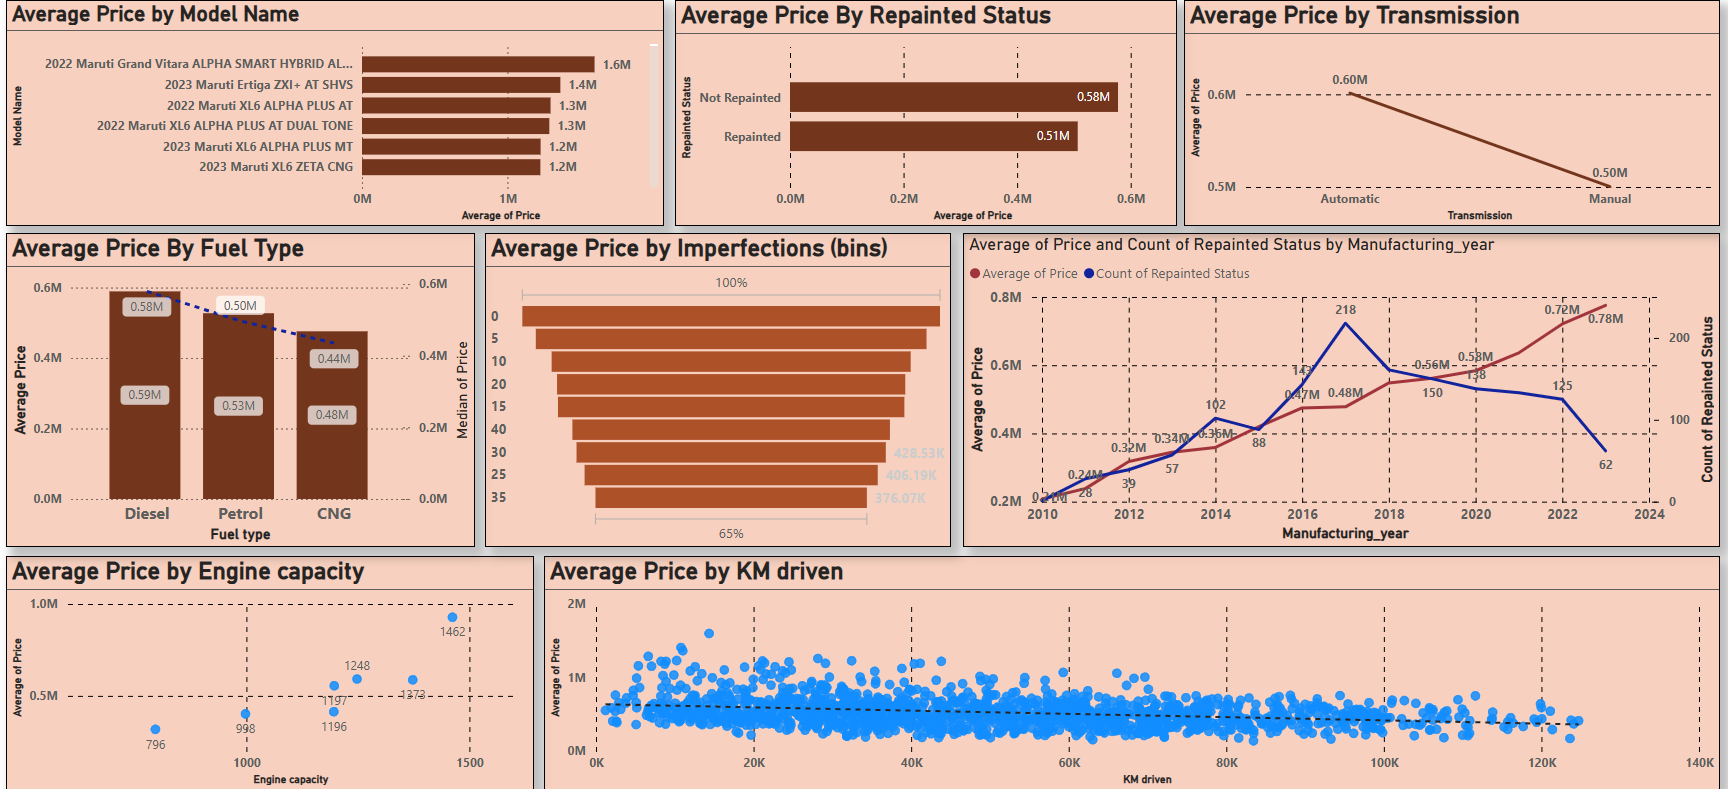

Layout of this report page (visuals, bound fields, positions):
{"tool":"powerbi","page":{"name":"Price&Value Analysis","canvas":[1730,790],"ordinal":1},"visuals":[{"type":"clusteredBarChart","title":"Average Price by Model Name","fields":{"Category":["cars24data.Model Name"],"Y":["Avg(cars24data.Price)"]},"box":[7,0,658,226],"z":0},{"type":"lineChart","fields":{"Category":["cars24data.Manufacturing_year"],"Y":["Avg(cars24data.Price)"],"Y2":["CountNonNull(cars24data.Repainted Status)"]},"box":[964,233,757,314],"z":1000},{"type":"scatterChart","title":"Average Price by Engine capacity","fields":{"X":["cars24data.Engine capacity"],"Y":["Avg(cars24data.Price)"]},"box":[7,556,528,234],"z":2000},{"type":"scatterChart","title":"Average Price by KM driven","fields":{"X":["cars24data.KM driven"],"Y":["Avg(cars24data.Price)"]},"box":[545,556,1176,234],"z":3000},{"type":"lineClusteredColumnComboChart","title":"Average Price By Fuel Type","fields":{"Category":["cars24data.Fuel type"],"Y":["Avg(cars24data.Price)"],"Y2":["Median(cars24data.Price)"]},"box":[7,233,469,314],"z":4000},{"type":"clusteredBarChart","title":"Average Price By Repainted Status","fields":{"Y":["Avg(cars24data.Price)"],"Category":["cars24data.Repainted Status"]},"box":[676,0,502,226],"z":5000},{"type":"lineChart","title":"Average Price by Transmission","fields":{"Category":["cars24data.Transmission"],"Y":["Avg(cars24data.Price)"]},"box":[1185,0,536,226],"z":6000},{"type":"funnel","title":"Average Price by Imperfections (bins)","fields":{"Category":["cars24data.Imperfections (bins)"],"Y":["Avg(cars24data.Price)"]},"box":[486,233,466,314],"z":7000}]}

Visuals, with their boxes in screenshot pixels (x1, y1, x2, y2), scaled from the page's 1730x790 canvas onto the 1728x789 screenshot:
"Average Price by Model Name" clusteredBarChart: bbox=[7, 0, 664, 226]
lineChart - cars24data.Manufacturing_year x Avg(cars24data.Price): bbox=[963, 233, 1719, 546]
"Average Price by Engine capacity" scatterChart: bbox=[7, 555, 534, 788]
"Average Price by KM driven" scatterChart: bbox=[544, 555, 1719, 788]
"Average Price By Fuel Type" lineClusteredColumnComboChart: bbox=[7, 233, 475, 546]
"Average Price By Repainted Status" clusteredBarChart: bbox=[675, 0, 1177, 226]
"Average Price by Transmission" lineChart: bbox=[1184, 0, 1719, 226]
"Average Price by Imperfections (bins)" funnel: bbox=[485, 233, 951, 546]
